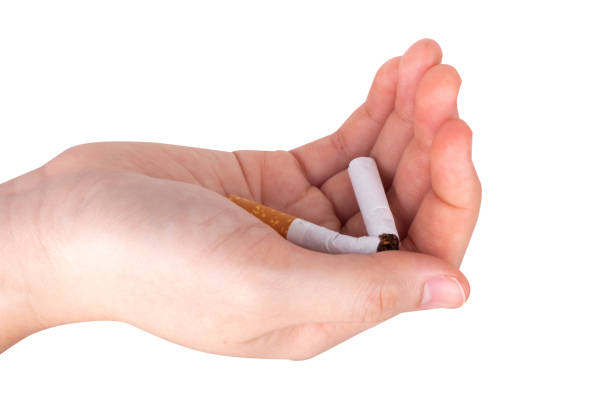cigarette: (228, 192, 381, 255), (346, 155, 400, 251)
